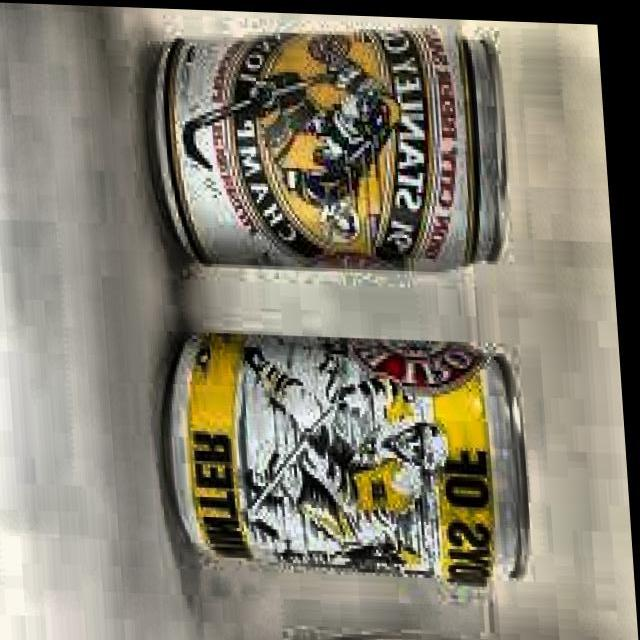litter: (142, 14, 532, 293), (146, 319, 544, 586)
